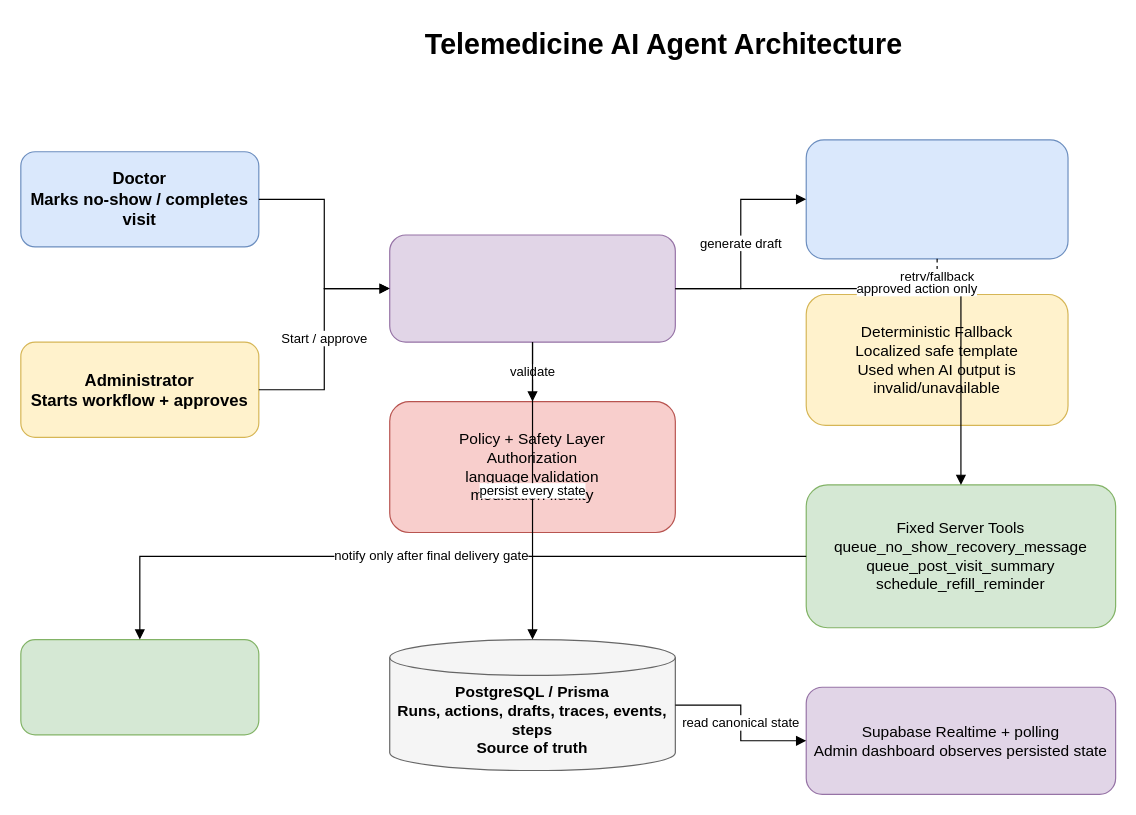
Image size: 1136x815. Some labels were removed from this diagram. Here are the shapes that lost their labels. From the top down, the box of each, then its label:
(805, 139, 1068, 259): OpenRouter AI openai/gpt-oss-120b Draft wording / plan
(389, 234, 675, 342): Agent Orchestrator Durable workflow + state machine
(20, 638, 259, 735): Patient Receives localized care update
